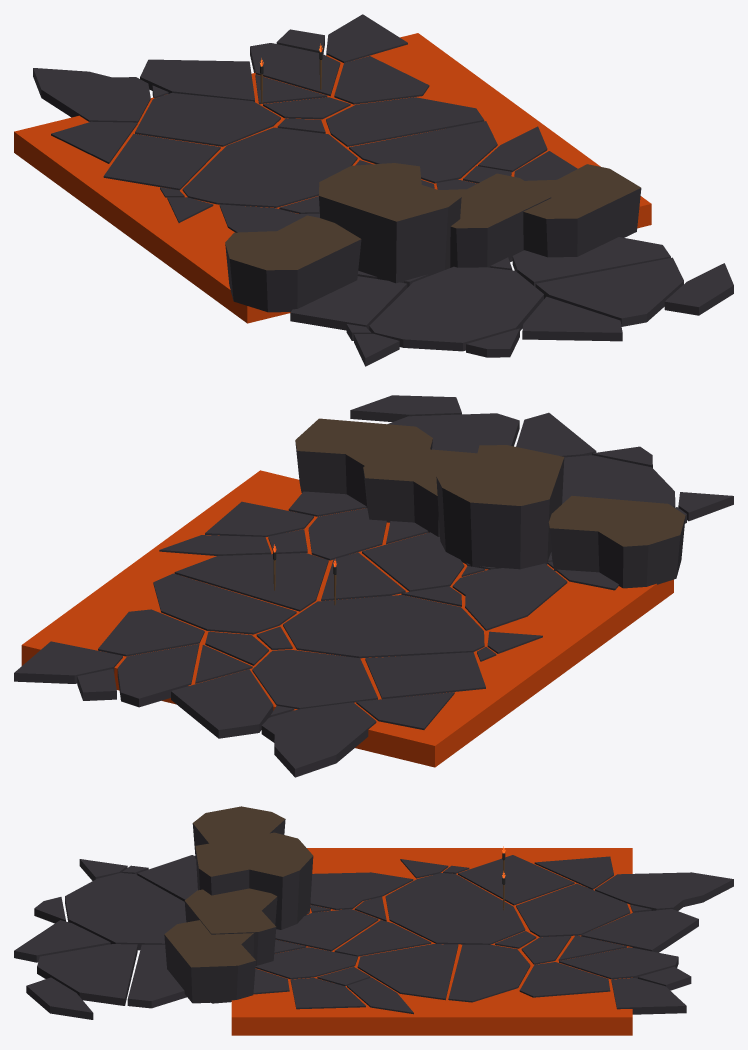
The picture shows the model from 3 angles, top to bottom: view 1: azimuth 30°, elevation 25°; view 2: azimuth 150°, elevation 25°; view 3: azimuth 270°, elevation 25°; orthographic projection. The views are drawn at different scales.
Visible parts, largest first — view 1: -mesh; view 2: -mesh; view 3: -mesh.
Part boxes in pixels (<box>): -mesh: <box>14,14,733,366</box>; -mesh: <box>14,395,733,777</box>; -mesh: <box>14,806,733,1035</box>.
Size of the model in its own units: 20.59 by 5.1 by 35.9.
